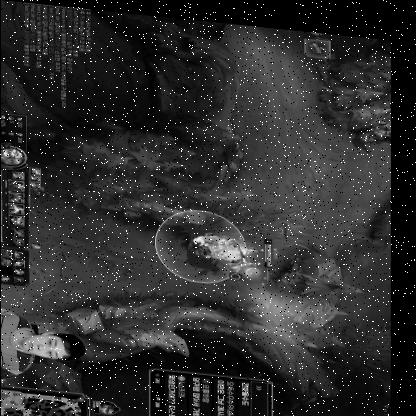streamer: (0, 304, 86, 393)
